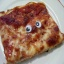pizza: (1, 1, 55, 63)
